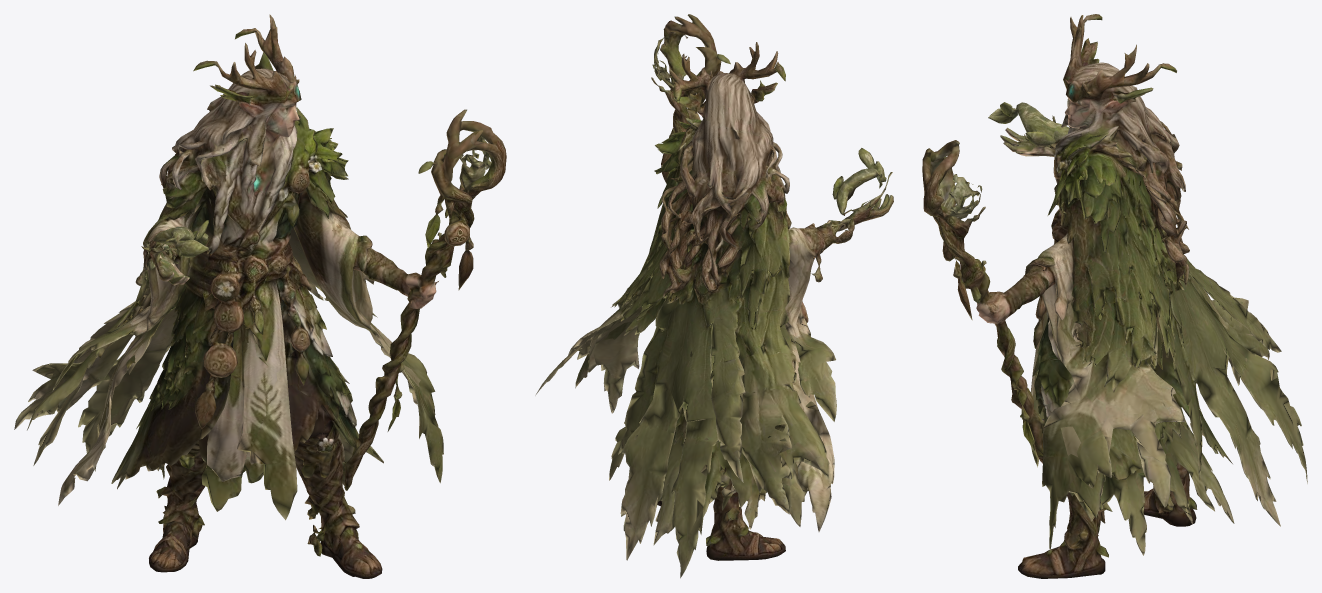
The model's file is seer.glb.
The picture shows the model from 3 angles, left to right: view 1: azimuth 30°, elevation 25°; view 2: azimuth 150°, elevation 25°; view 3: azimuth 270°, elevation 25°; orthographic projection. The views are drawn at different scales.
Size of the model in its own units: 1.31 by 1.9 by 1.29.
1 material, 1 textured.
